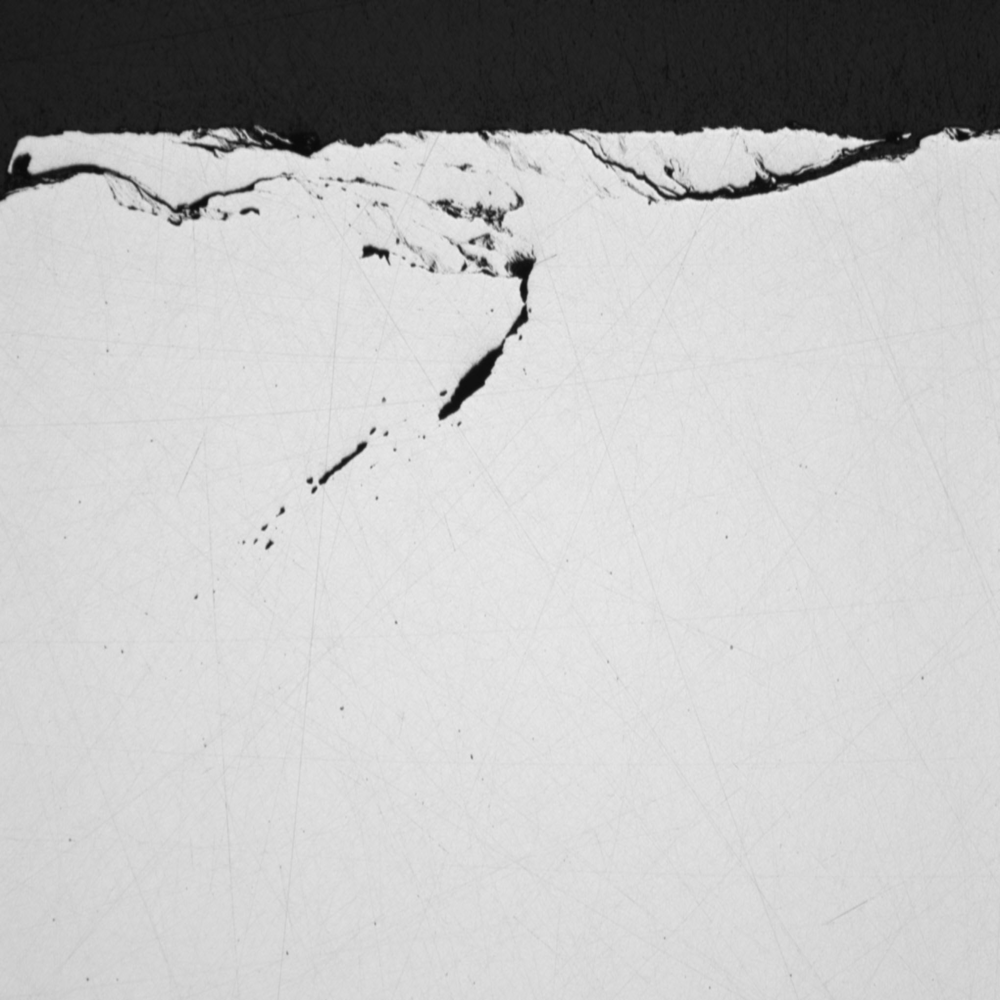crack: (1, 130, 580, 558), (586, 109, 930, 225)
